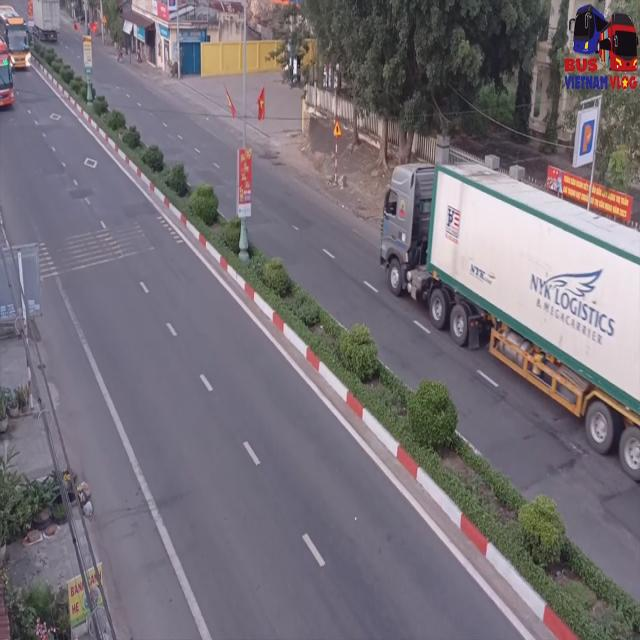bus: (2, 11, 30, 70), (0, 32, 16, 112)
truck: (378, 160, 640, 484), (32, 0, 61, 42)
